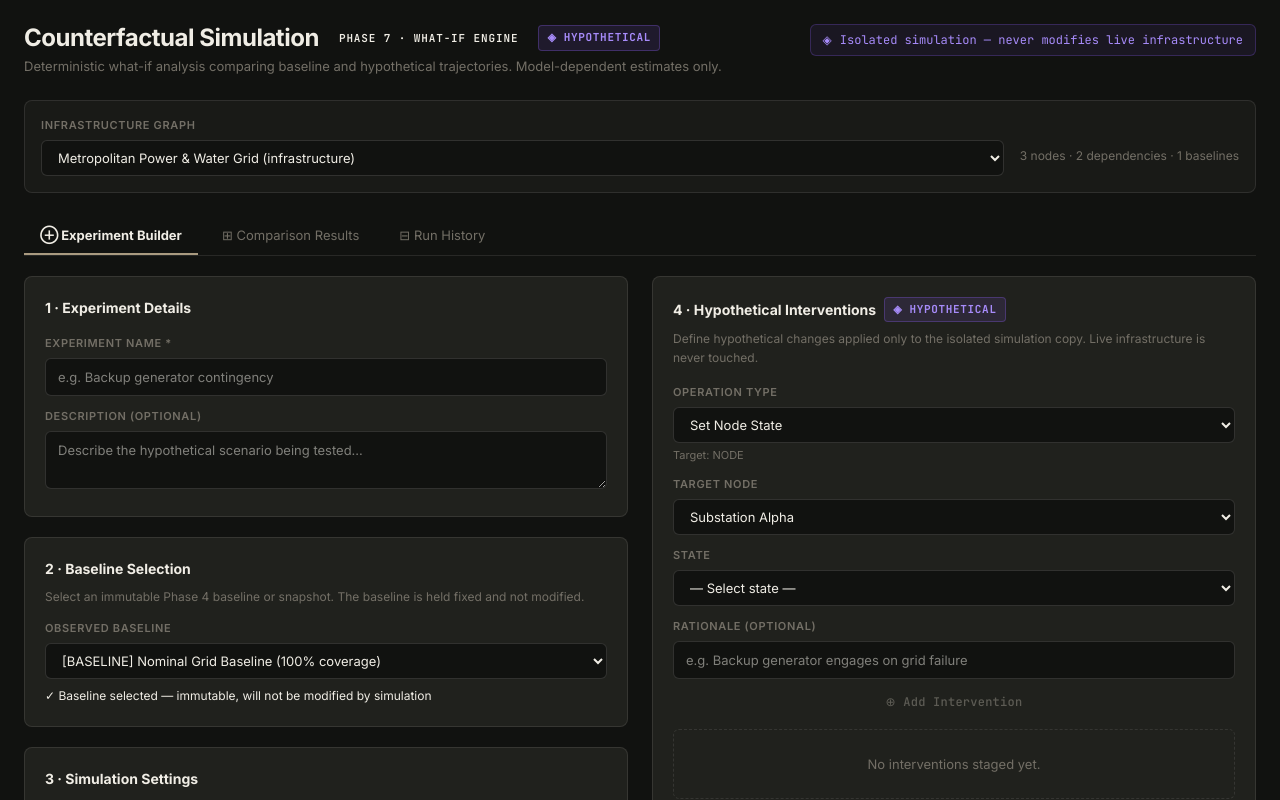
Counterfactual Simulation Page (/app/interventions) › switches to Run History tab and displays past experiment records
Check: the heading "Counterfactual Simulation" is shown, box [24, 24, 319, 52]
Click the button "⊟ Run History" at (442,236), box [383, 217, 501, 255]
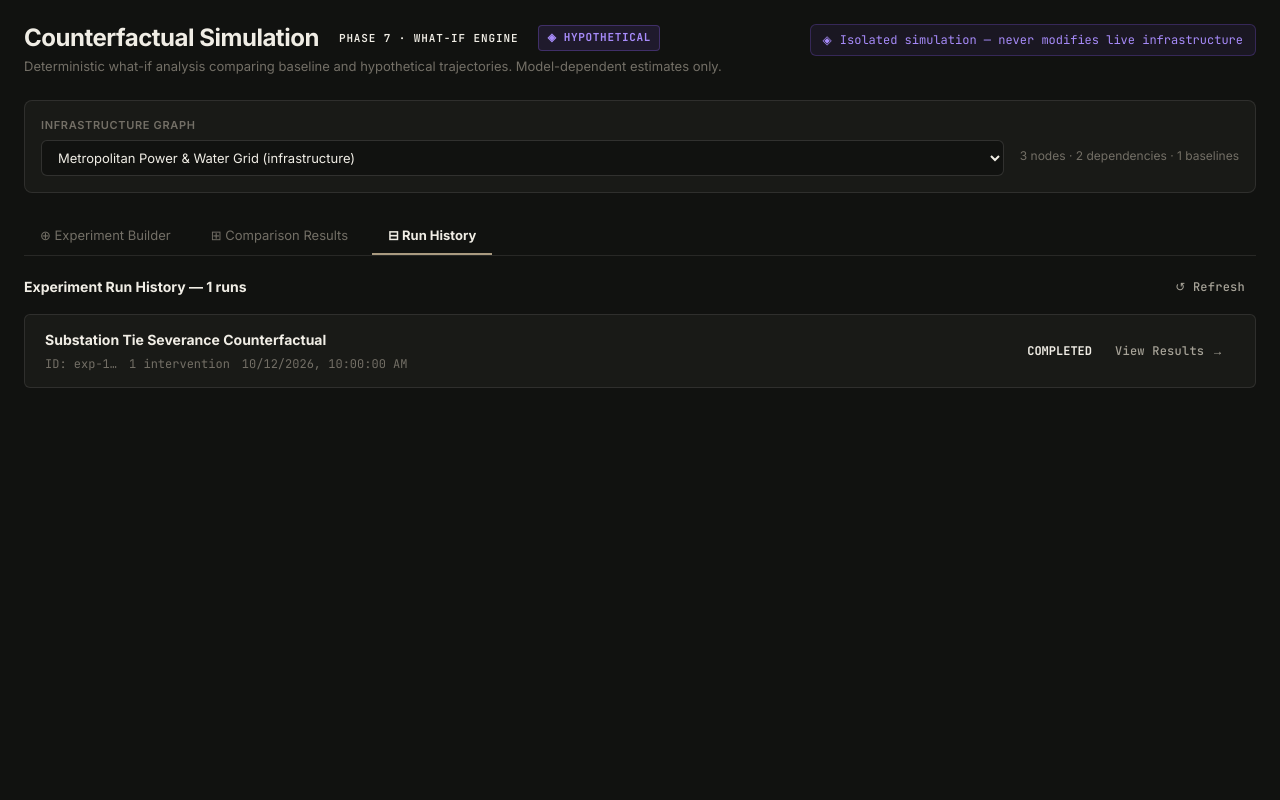
Check: the text "Substation Tie Severance Counterfactual" is shown, box [45, 331, 326, 348]
Check: the text "COMPLETED" is shown, box [1027, 342, 1092, 360]
Check: the text "1 intervention" is shown, box [129, 355, 230, 373]
